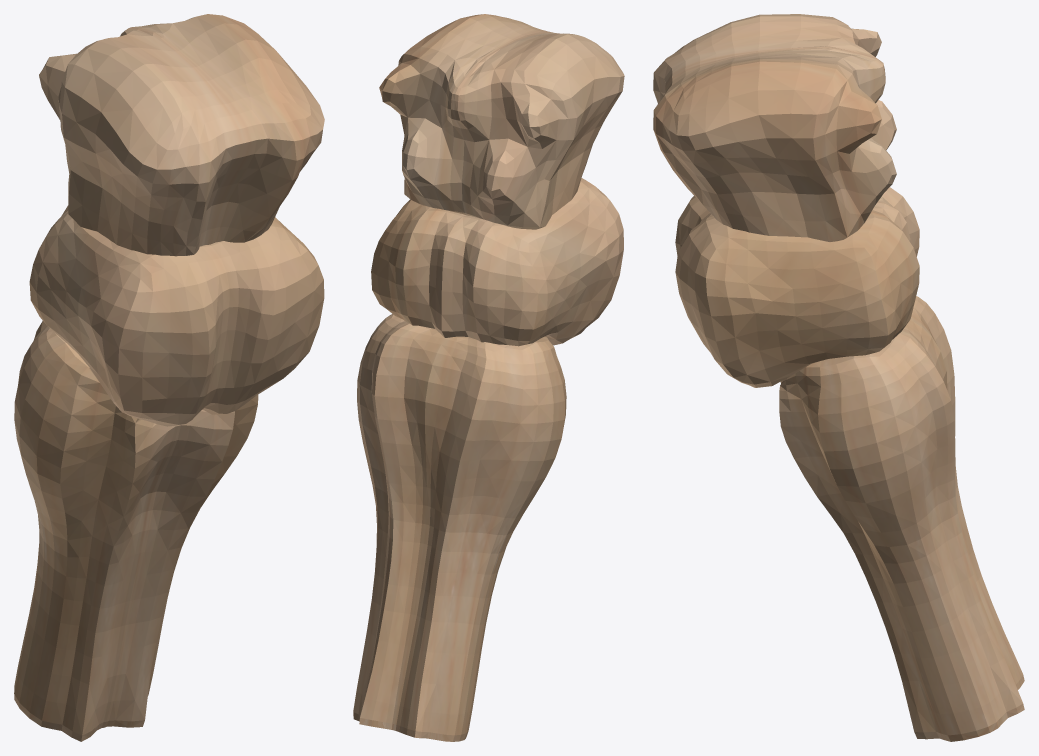
File: pons.obj
The picture shows the model from 3 angles, left to right: view 1: azimuth 30°, elevation 25°; view 2: azimuth 150°, elevation 25°; view 3: azimuth 270°, elevation 25°; orthographic projection. The views are drawn at different scales.
Bounding box in the file's own units: 1.25 × 4 × 1.97.
1 material, 1 textured.
